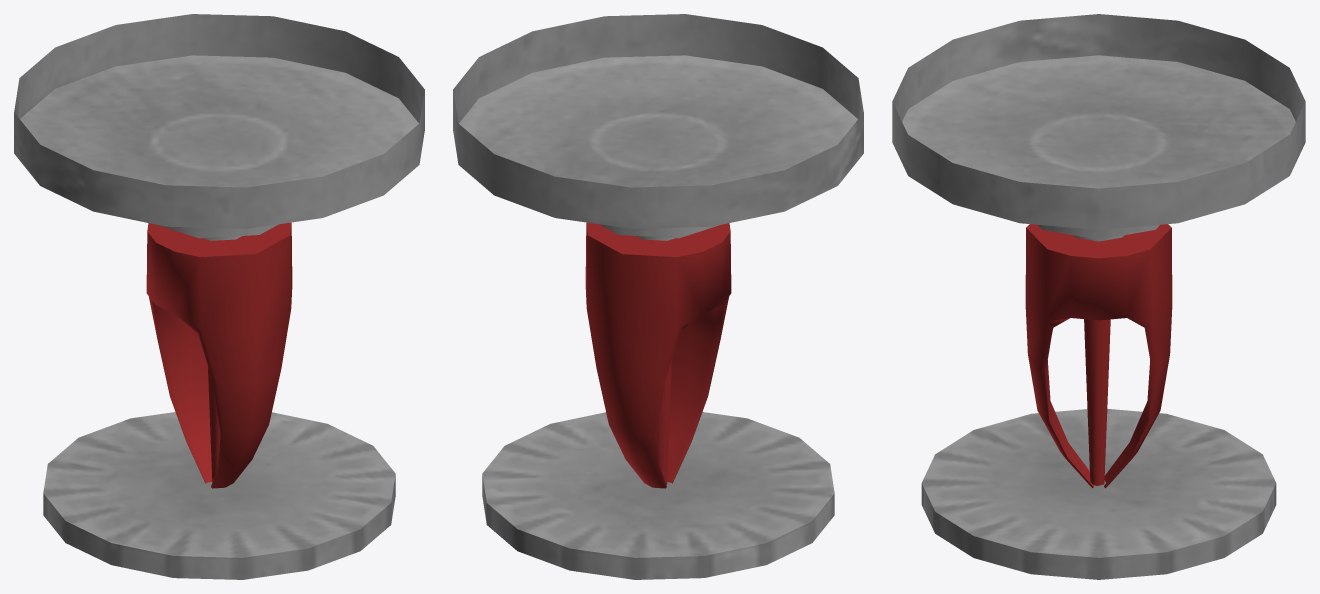
The model's file is FireSprinkler.fbx.
3 views of the same model, side by side, from view 1: azimuth 30°, elevation 25°; view 2: azimuth 150°, elevation 25°; view 3: azimuth 270°, elevation 25° (orthographic).
Parts seen in each view (by area): view 1: FireSprinkler; view 2: FireSprinkler; view 3: FireSprinkler.
Boxes of the visible parts, x1,y1,x2,y2 form: FireSprinkler: (14,14,424,579); FireSprinkler: (453,14,863,579); FireSprinkler: (892,14,1305,579).
Size of the model in its own units: 13.6 by 14.66 by 13.6.
